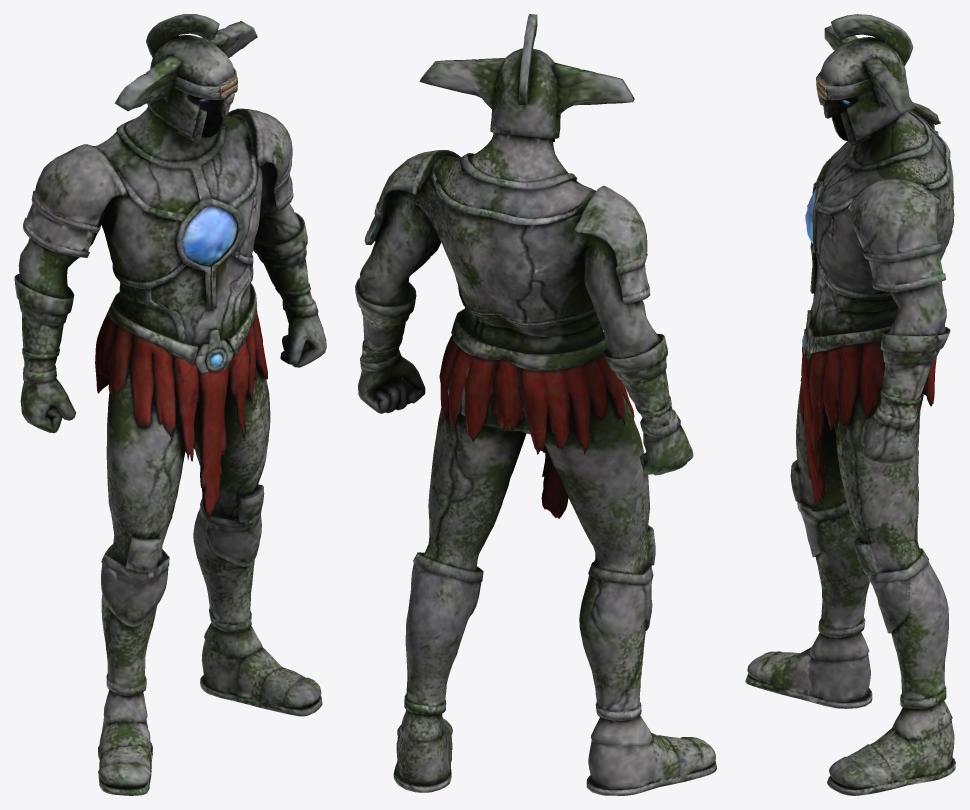
File: MZ4250 - Colossus_2025.glb
3 views of the same model, side by side, from view 1: azimuth 30°, elevation 25°; view 2: azimuth 150°, elevation 25°; view 3: azimuth 270°, elevation 25° (orthographic). The views are drawn at different scales.
Parts seen in each view (by area): view 1: Torus.001; view 2: Torus.001; view 3: Torus.001.
Boxes of the visible parts, bbox=[...] form: Torus.001: bbox=[14, 14, 326, 795]; Torus.001: bbox=[355, 14, 716, 795]; Torus.001: bbox=[745, 14, 955, 795].
Bounding box in the file's own units: 276 × 623 × 165.
Materials: 1 (1 with a texture image).
